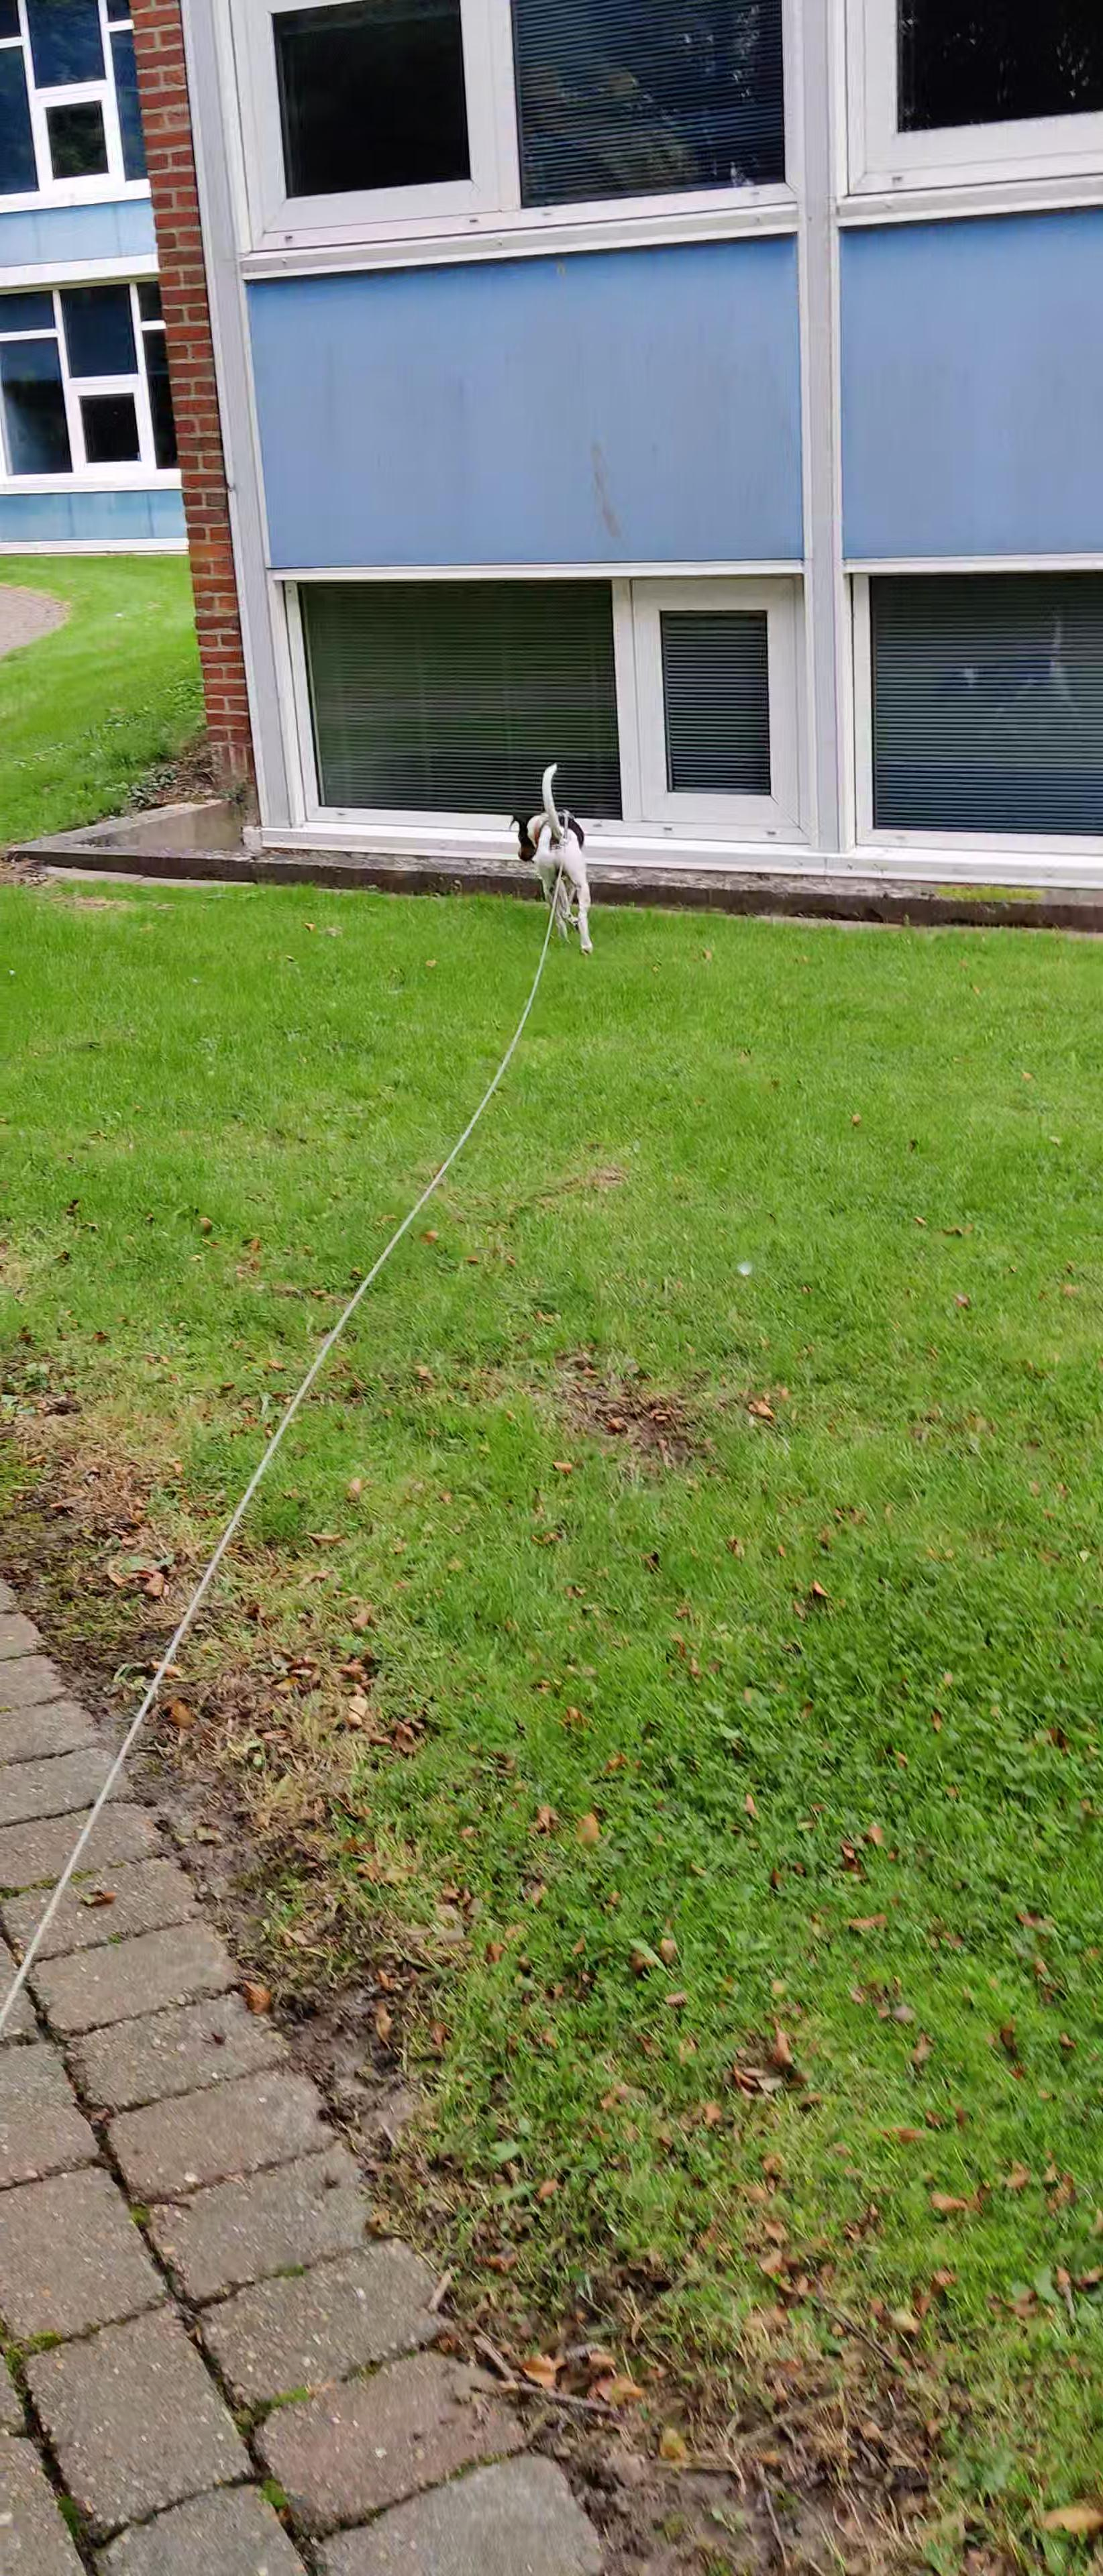Dog: (498, 752, 605, 966)
